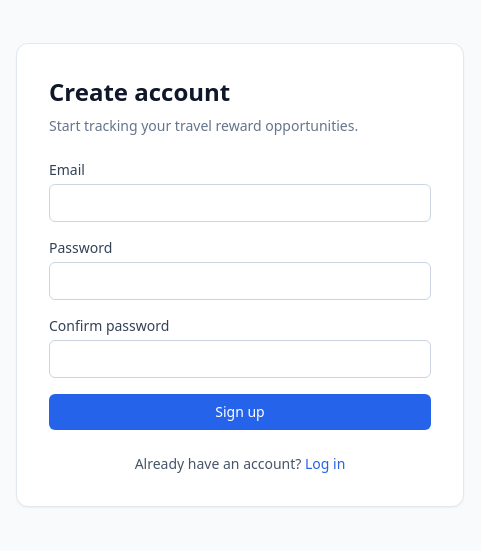
Scenario: SignUpPage validation › rejects a short password
This screenshot has width=481, height=551.
In the field labelled "Email": (240, 203) [49,184,431,222], type "user@example.com"
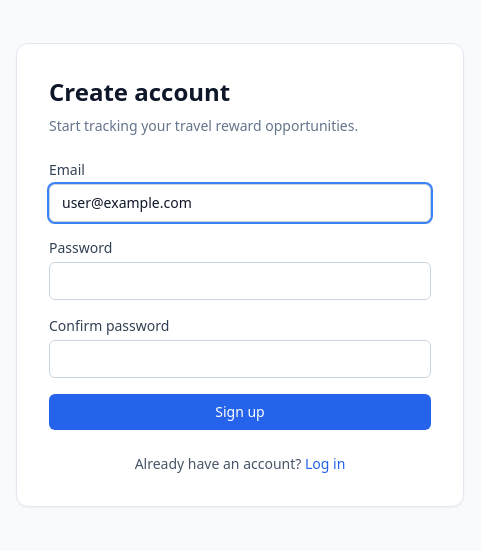
In the password field labelled "Password": (240, 281) [49,262,431,300], type "short"
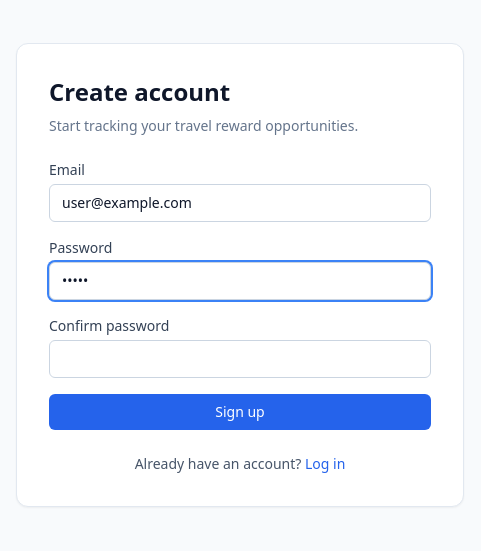
In the password field labelled "Confirm password": (240, 359) [49,340,431,378], type "short"
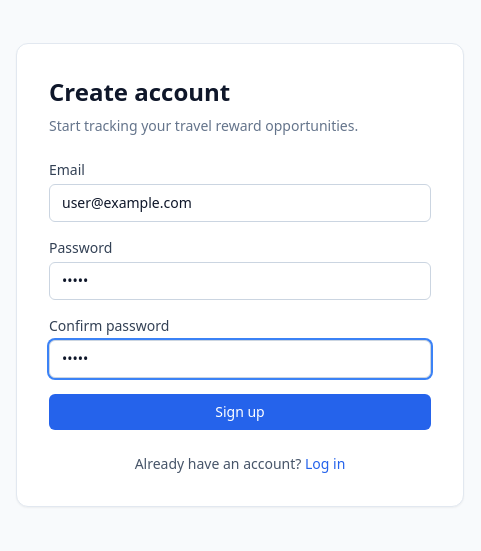
Click the button "Sign up": (240, 412) [49,394,431,430]
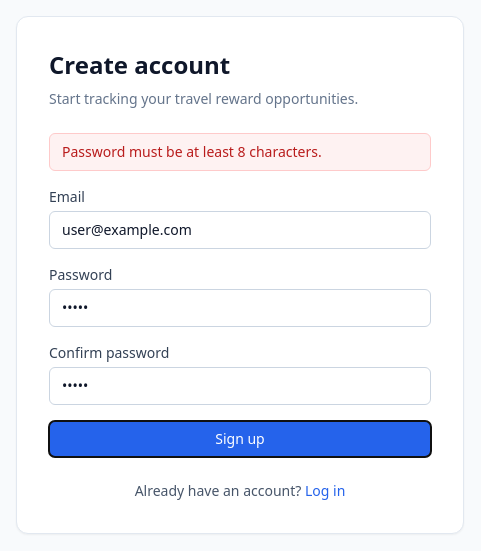
Result: the text "Password must be at least 8 characters." is shown at [49,133,431,171]
